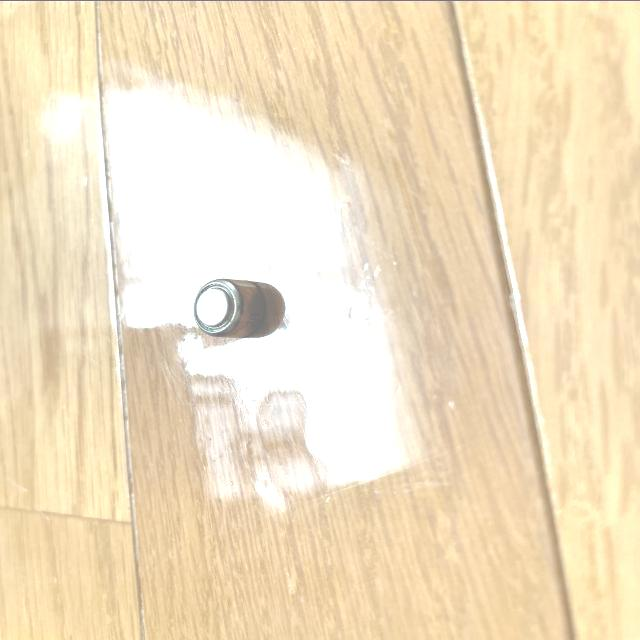COIN: (193, 274, 263, 338)
